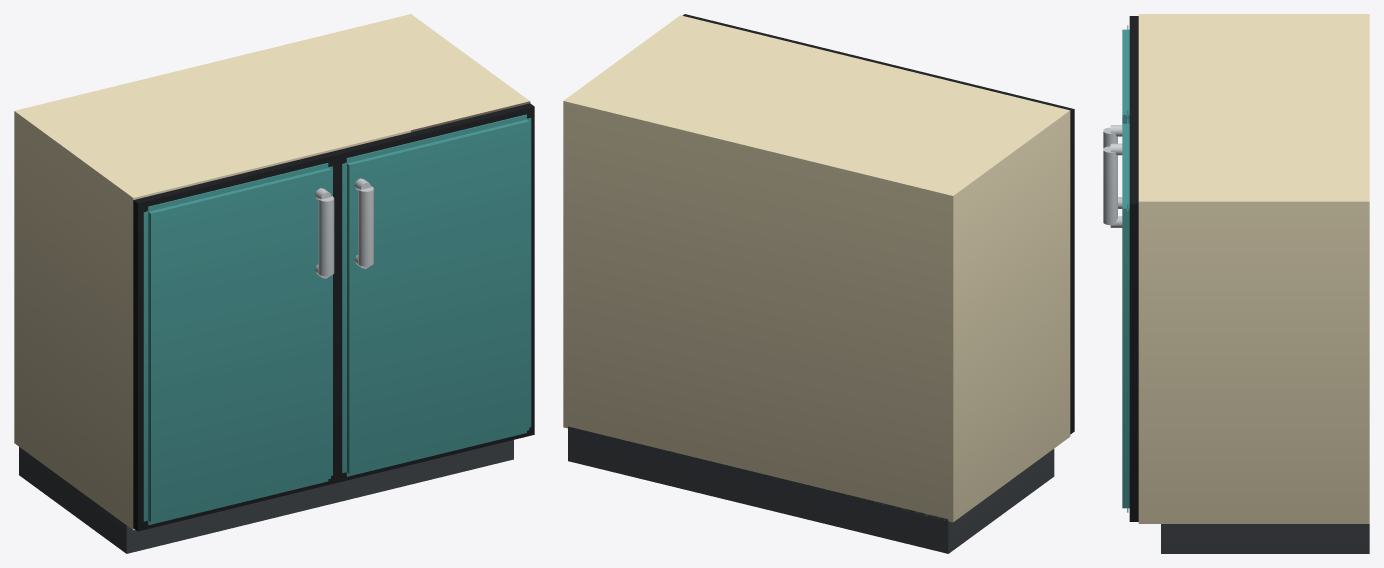
File: KitCab_Base_Door_10.glb
3 views of the same model, side by side, from view 1: azimuth 30°, elevation 25°; view 2: azimuth 150°, elevation 25°; view 3: azimuth 270°, elevation 25° (orthographic). The views are drawn at different scales.
Visible parts, largest first — view 1: SM_KitCab_Base_Door_10; view 2: SM_KitCab_Base_Door_10; view 3: SM_KitCab_Base_Door_10.
Part boxes in pixels (left/top/right/bottom): SM_KitCab_Base_Door_10: left=14, top=14, right=534, bottom=553; SM_KitCab_Base_Door_10: left=563, top=14, right=1074, bottom=553; SM_KitCab_Base_Door_10: left=1103, top=14, right=1369, bottom=553.
Size of the model in its own units: 1 by 0.88 by 0.5995.
1 material, 1 textured.
